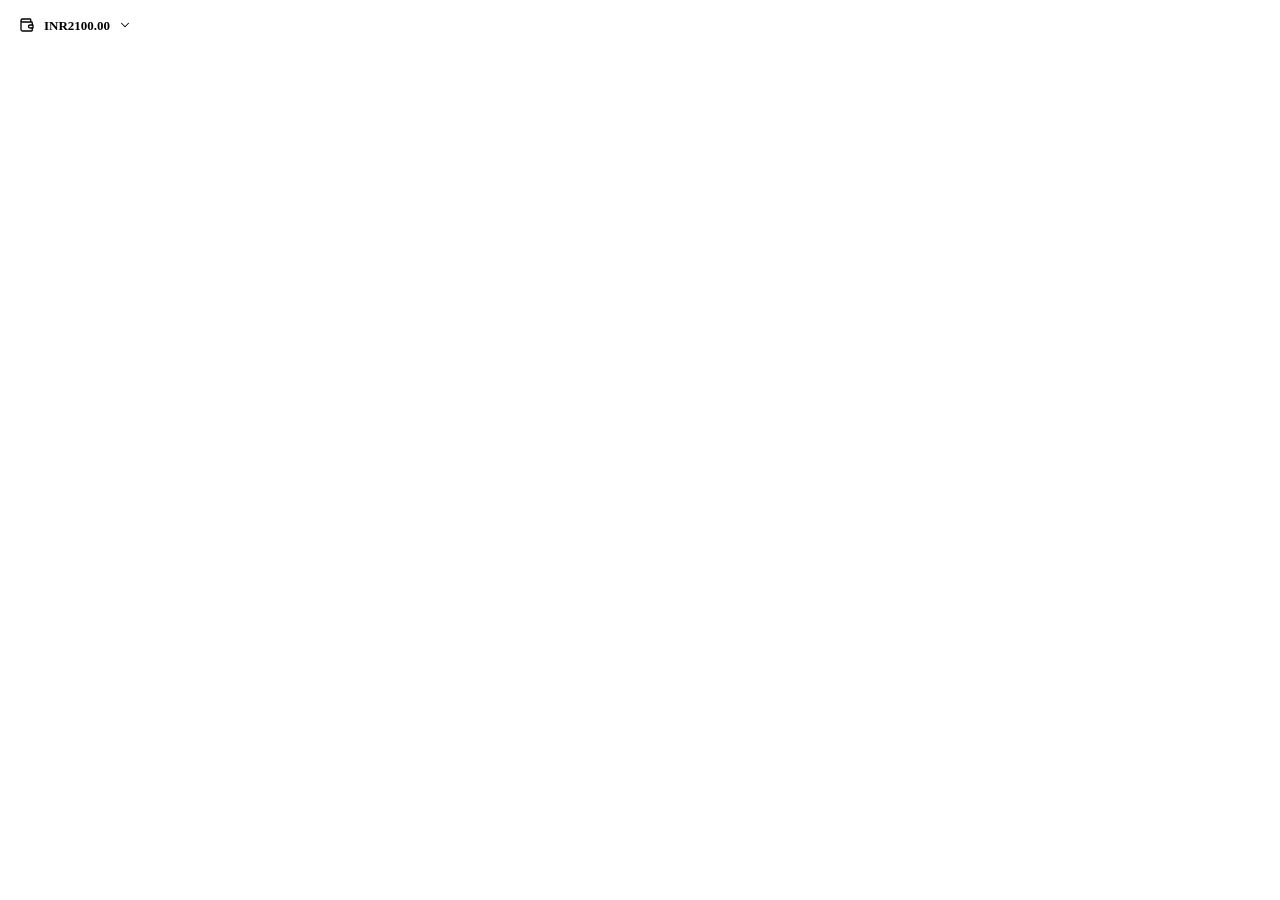
Test: AgentSharingWalletView › subtitle names a CREDIT-scheme agent as the sharing wallet owner
Click the button.
click(75, 25)  # box [8, 8, 142, 42]
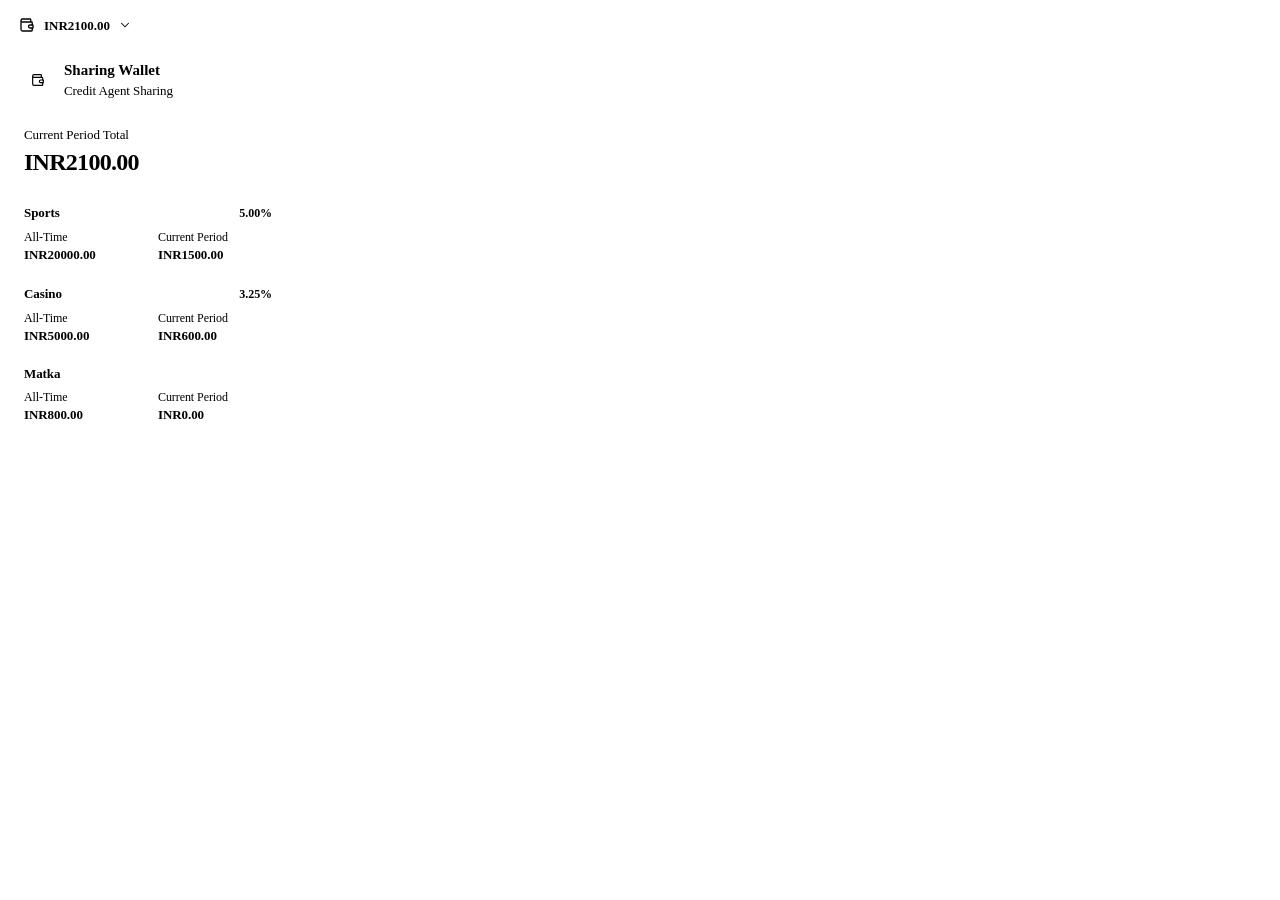
Expected: the text "Credit Agent Sharing" is shown, [64, 82, 173, 98]
